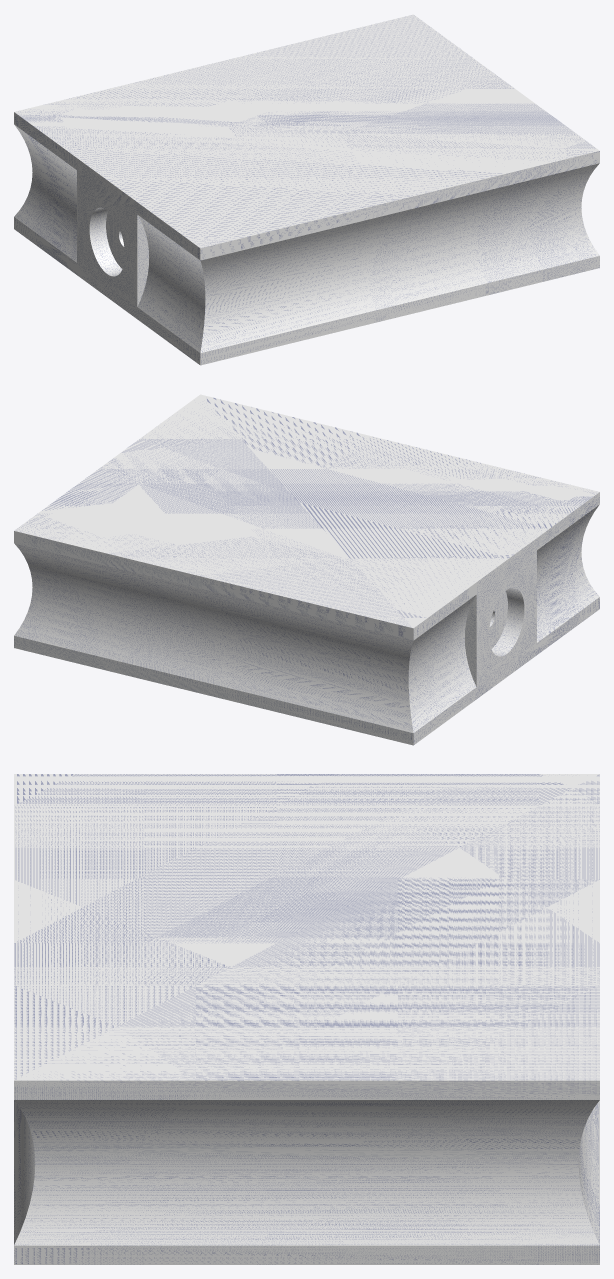
Rendered from focus_stacking_platform.dae.
The picture shows the model from 3 angles, top to bottom: view 1: azimuth 30°, elevation 25°; view 2: azimuth 150°, elevation 25°; view 3: azimuth 270°, elevation 25°; orthographic projection. The views are drawn at different scales.
Parts seen in each view (by area): view 1: group_0 (×2); view 2: group_0 (×2); view 3: group_0.
Boxes of the visible parts, left/top/right/bottom form: group_0 (×2): left=14, top=14, right=599, bottom=365; group_0 (×2): left=14, top=394, right=599, bottom=745; group_0: left=14, top=774, right=599, bottom=1264.
Size of the model in its own units: 6.81 by 5.5 by 1.91.
